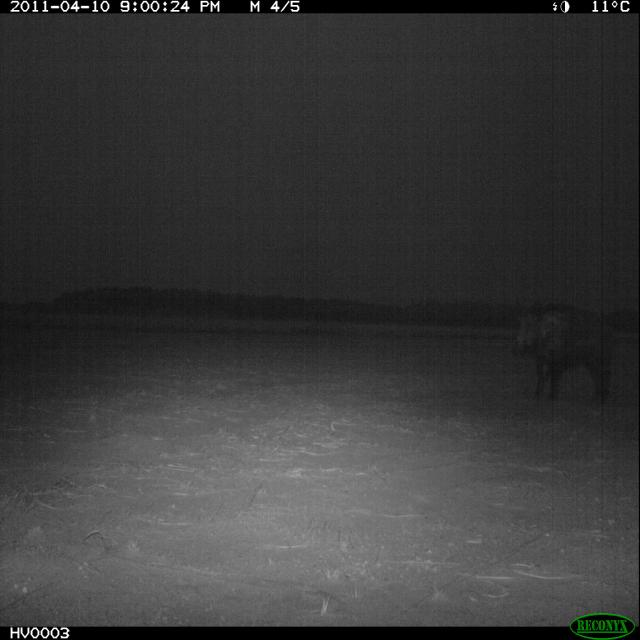boar: (497, 285, 619, 427)
